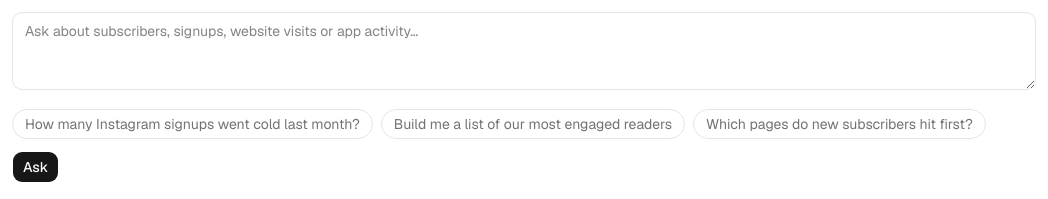
Test: AskForm › fills the box with an example question when one is clicked
What coordinates should you click on to do the following:
click the button "How many Instagram signups went cold last month?"
I would click on:
 (192, 124)
Its box is [12,109,373,139].
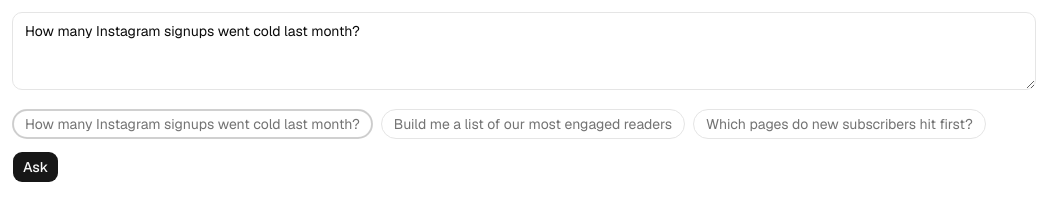
Check: the text box named "Your question" holds "How many Instagram signups went cold last month?", box [12,12,1036,90]
